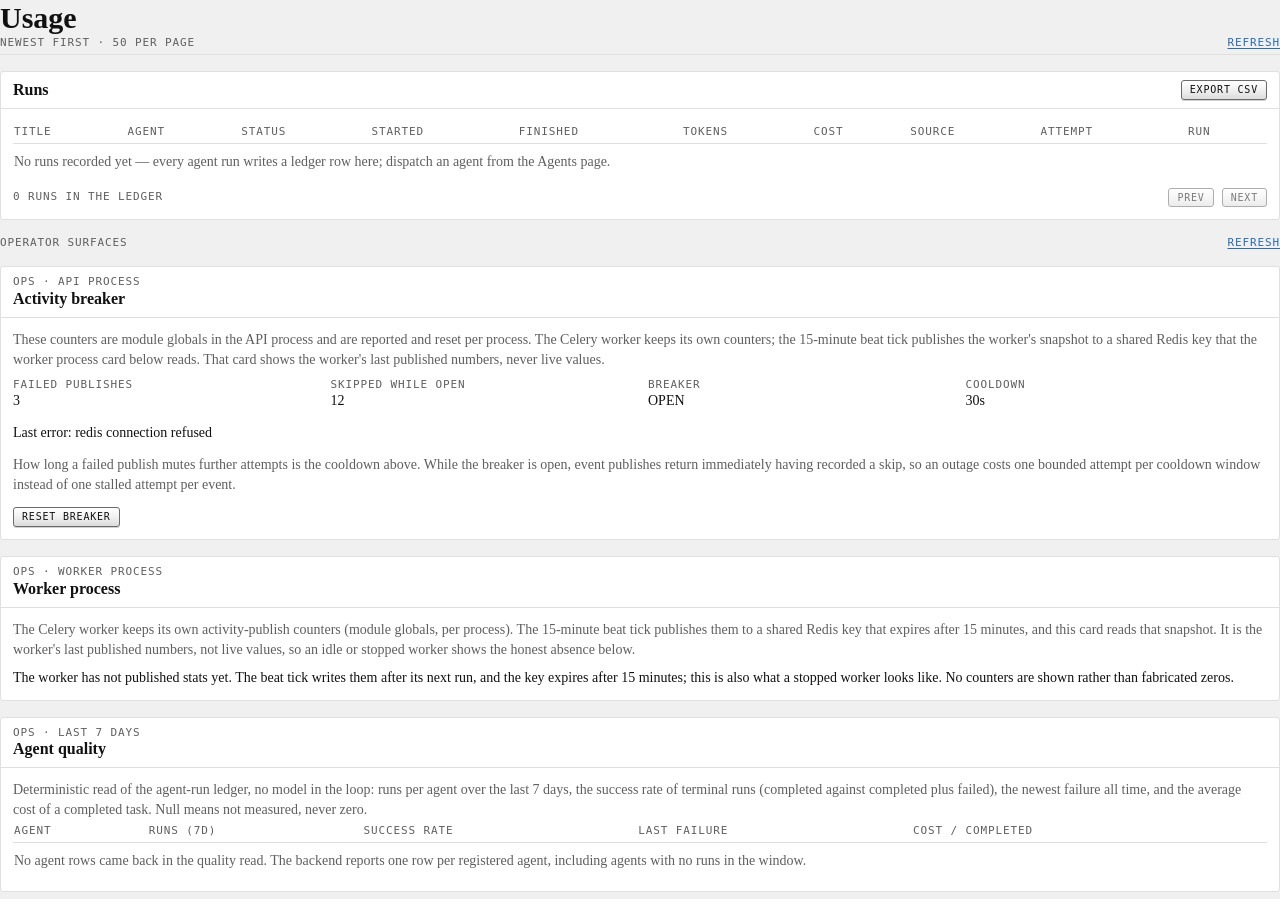
Test: Ops panel — the reset is guarded and calls the REAL verb › a refused reset is named and leaves the guard open with the pre-reset counters
Expected: the text with test id "ops-breaker-state" reads "OPEN", [648,393,685,408]
Click the button with test id "ops-reset". click: click(66, 517)
box: [13,507,120,527]
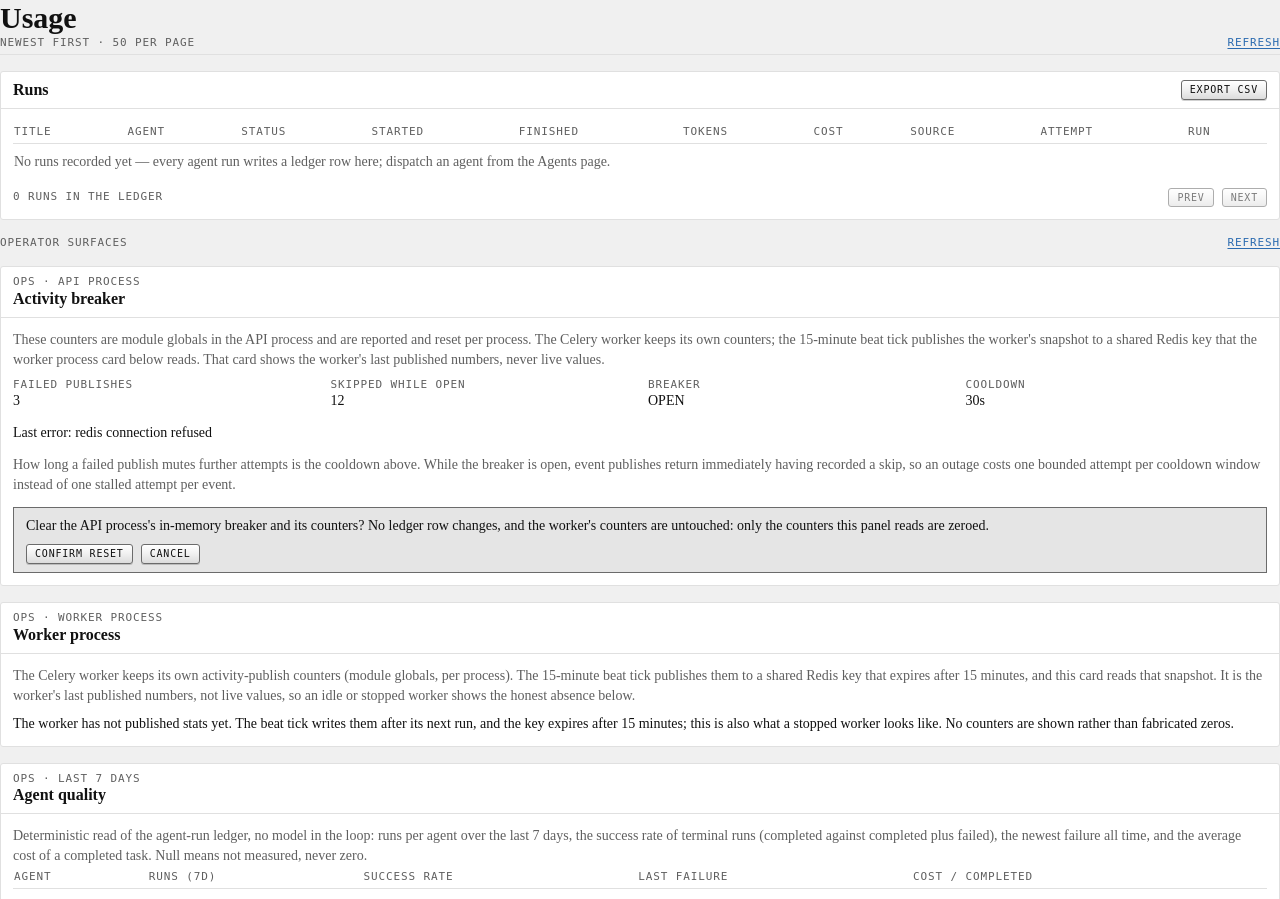
Click the button with test id "ops-reset-confirm". click: click(79, 554)
box: [26,544,133,564]
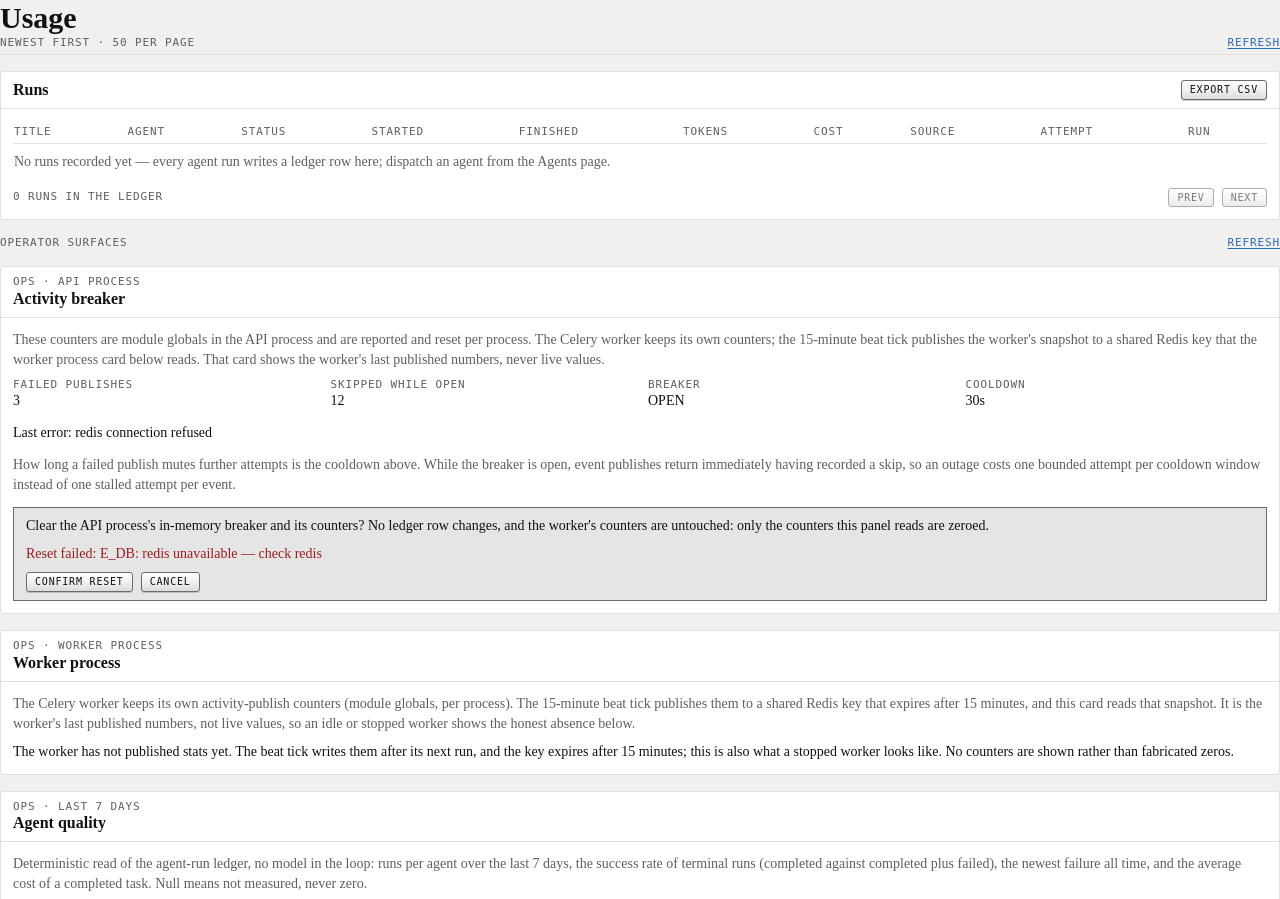
Expected: the text with test id "ops-breaker-state" reads "OPEN", [648,393,685,408]
Result: the element with test id "ops-reset-guard" is shown at [13,507,1267,601]
Result: the message with test id "ops-reset-error" shows "E_DB: redis unavailable — check redis" at [100,546,322,561]
